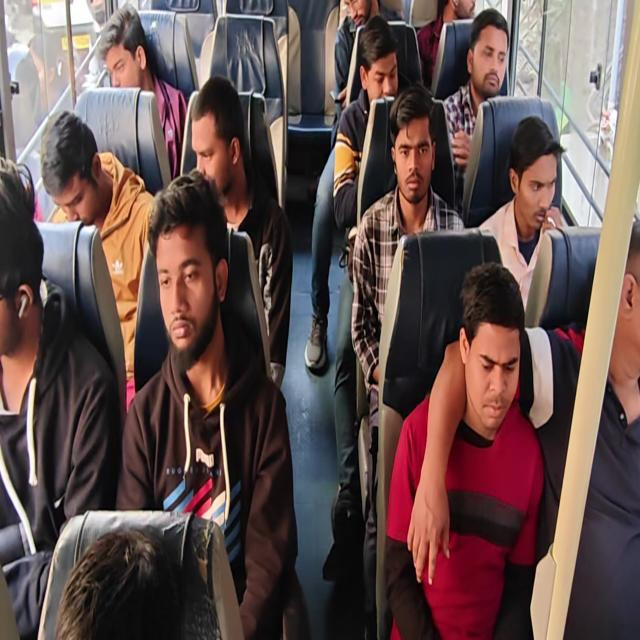person: (53, 526, 231, 640), (141, 158, 235, 365), (29, 97, 113, 221), (463, 255, 518, 444), (501, 105, 568, 249), (0, 150, 45, 363), (180, 72, 256, 192), (600, 213, 640, 390), (386, 90, 441, 208), (352, 12, 410, 109), (94, 8, 154, 96), (469, 0, 511, 110), (336, 0, 382, 30), (438, 0, 478, 25)
